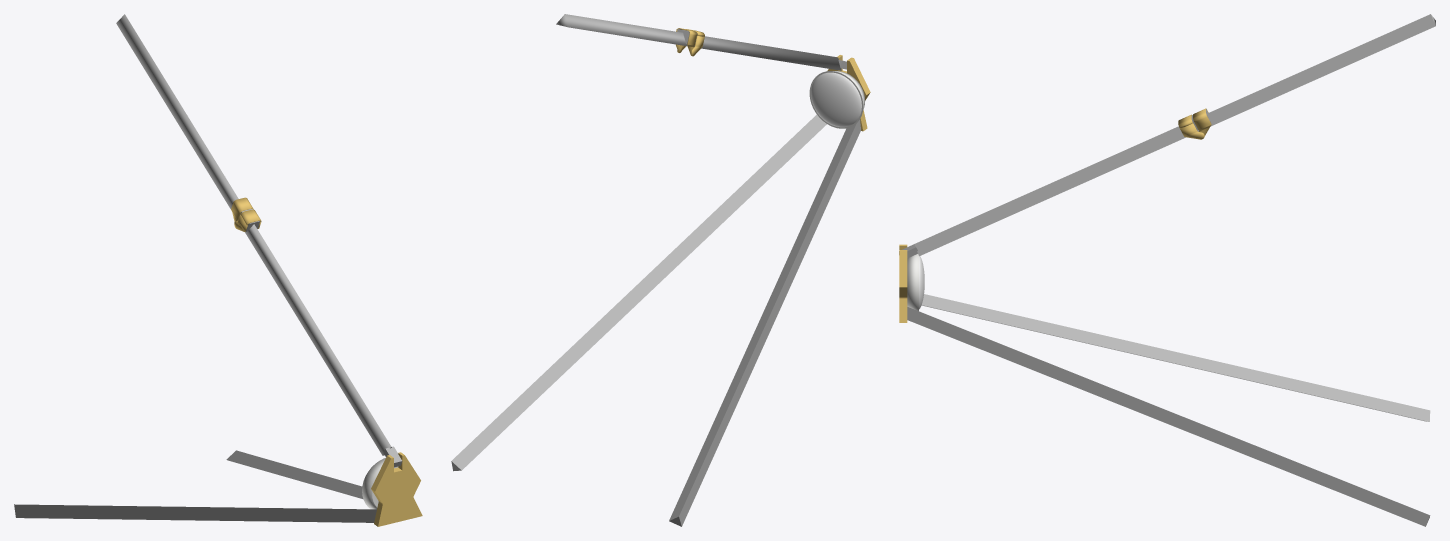
File: secondary_mirror.gltf
3 renders of one model, left to right at view 1: azimuth 30°, elevation 25°; view 2: azimuth 150°, elevation 25°; view 3: azimuth 270°, elevation 25°, orthographic. The views are drawn at different scales.
Visible parts, largest first — view 1: Secondary Mirror; view 2: Secondary Mirror; view 3: Secondary Mirror.
Part boxes in pixels (x1=…): Secondary Mirror: x1=14, y1=14, x2=422, y2=526; Secondary Mirror: x1=451, y1=14, x2=870, y2=526; Secondary Mirror: x1=899, y1=14, x2=1435, y2=526.
Bounding box in the file's own units: 3.13 × 6.37 × 6.74.
